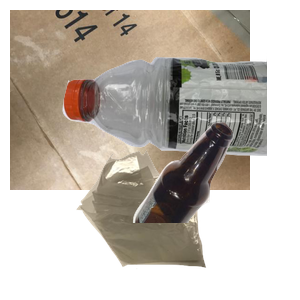cardboard: (10, 10, 250, 190)
glass: (130, 120, 300, 300)
plastic: (60, 53, 300, 201)
trash: (74, 148, 273, 300)
